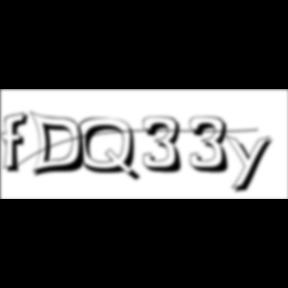3: (143, 116, 189, 176), (190, 116, 236, 176)
D: (29, 110, 92, 180)
Q: (78, 117, 144, 184)
f: (2, 111, 34, 175)
y: (224, 132, 278, 196)
